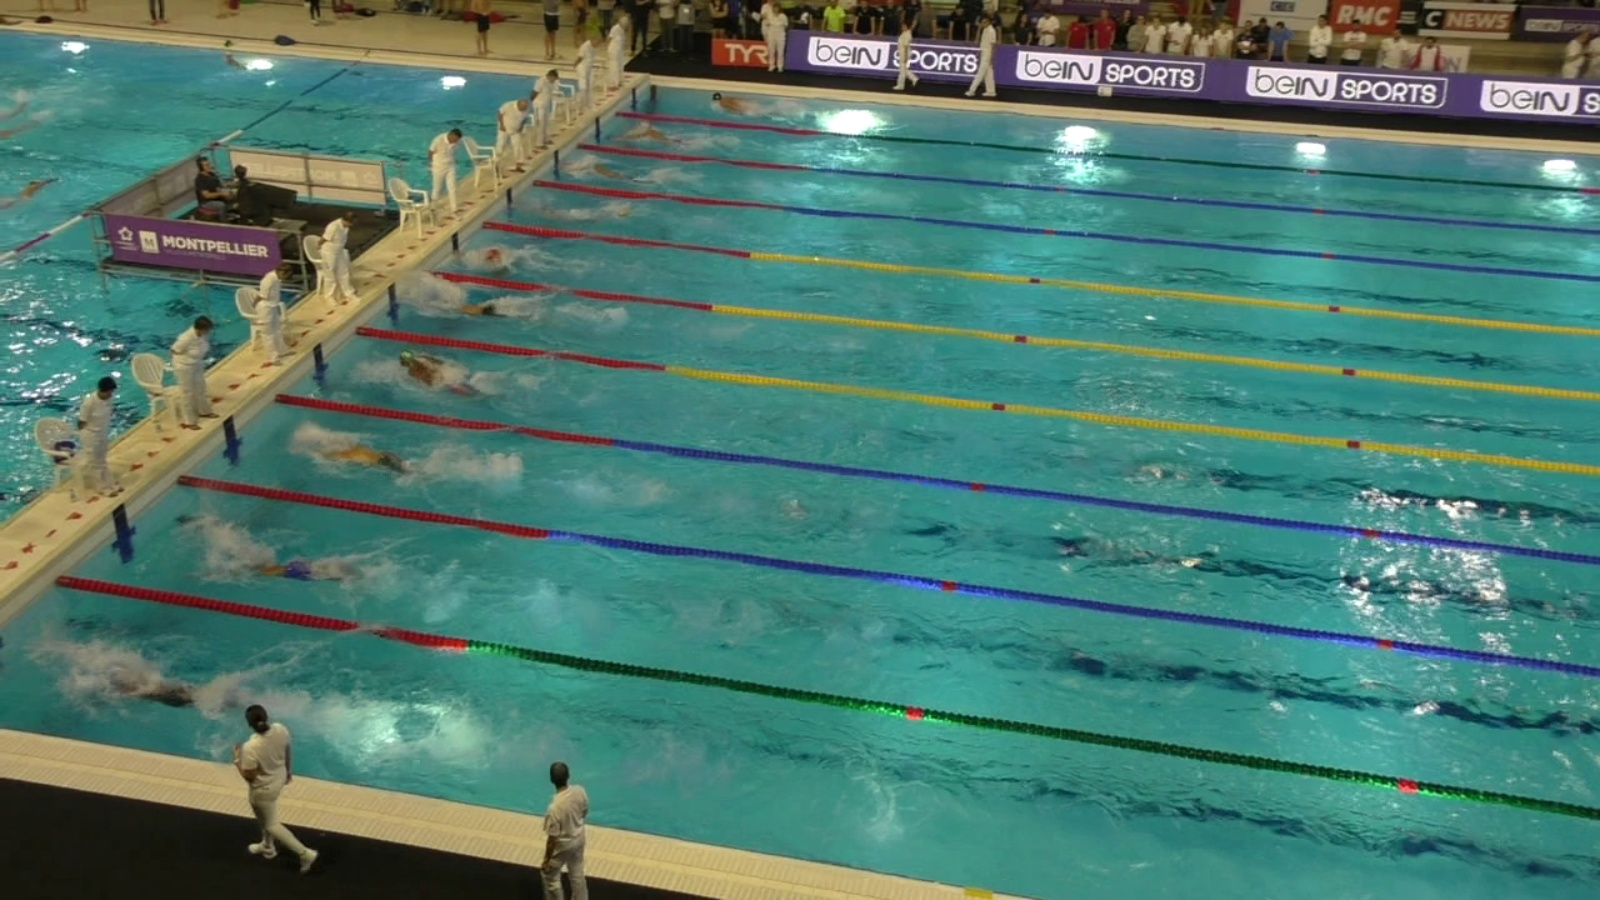swimmerwdd: (87, 660, 310, 727), (203, 541, 395, 596), (309, 438, 438, 485), (395, 347, 498, 399), (430, 287, 529, 327), (518, 192, 637, 225), (705, 84, 805, 120), (569, 156, 670, 189), (615, 119, 709, 151), (481, 245, 549, 273), (1, 176, 62, 205), (222, 47, 255, 79)
